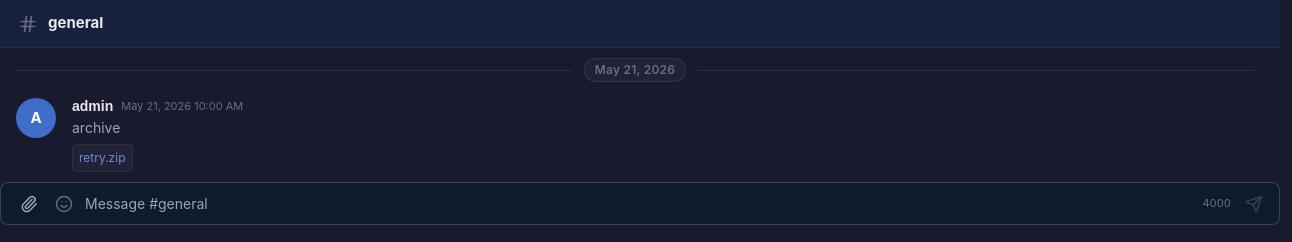
Test: ChatArea regressions › shows failed downloads and allows retrying
Click the link "retry.zip". click: (102, 158)
box: [72,144,132,172]
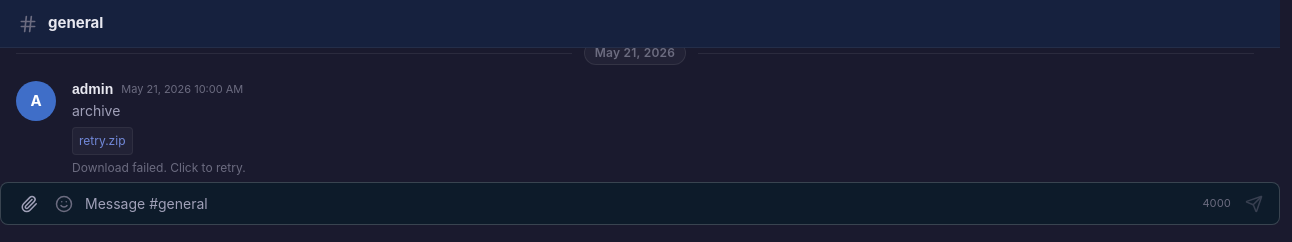
Result: the text "Download failed. Click to retry." is shown at [72,159,246,177]
Click the link "retry.zip". click: (102, 141)
box: [72,127,132,155]
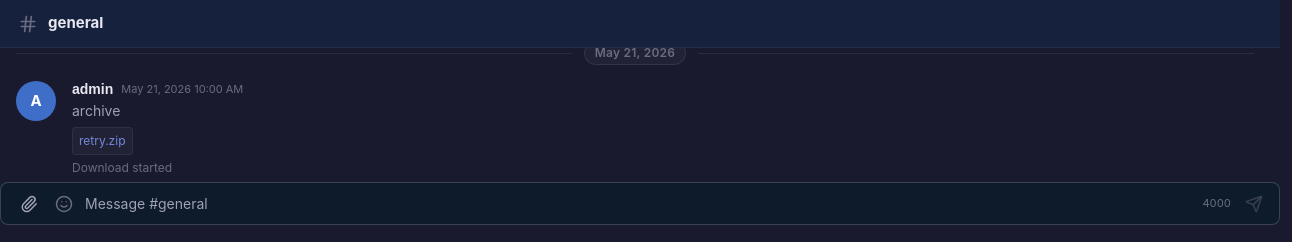
Result: the text "Download started" is shown at [72,159,172,177]
